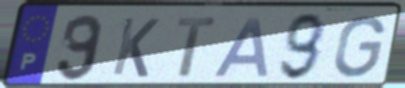9: (278, 11, 330, 83), (56, 12, 106, 83)
A: (211, 15, 272, 79)
G: (331, 13, 388, 80)
K: (109, 16, 163, 80)
T: (175, 15, 219, 79)
